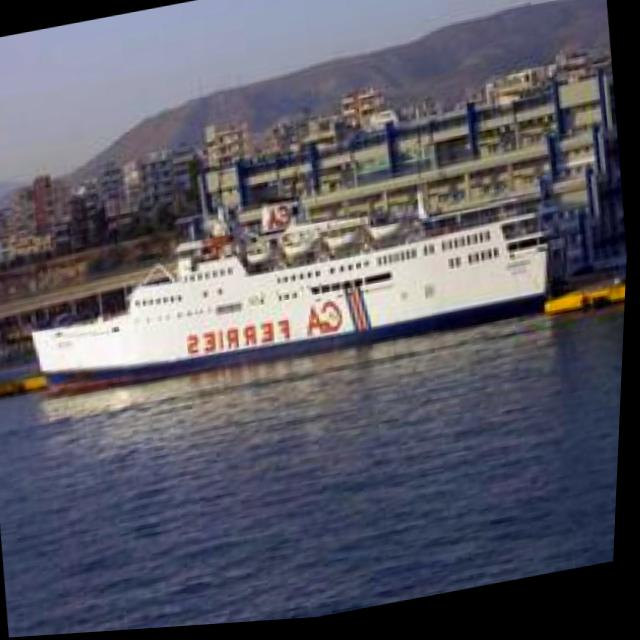ship2: (33, 200, 551, 396)
